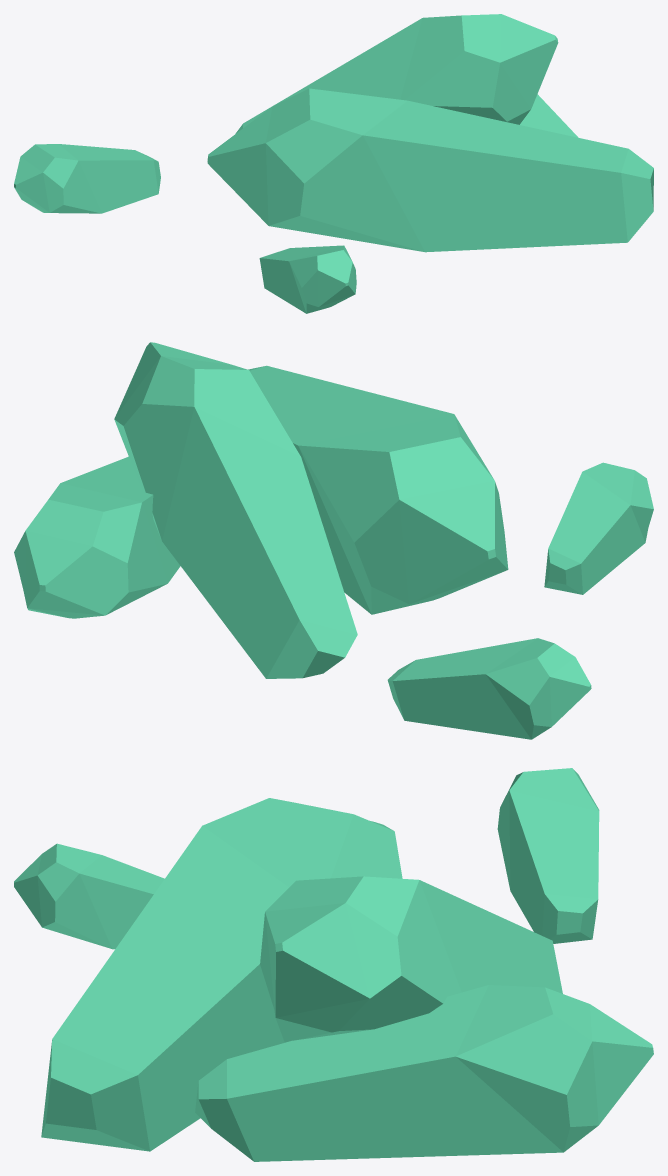
Rendered from Crystal_5_02.fbx.
The picture shows the model from 3 angles, top to bottom: view 1: azimuth 30°, elevation 25°; view 2: azimuth 150°, elevation 25°; view 3: azimuth 270°, elevation 25°; orthographic projection. The views are drawn at different scales.
Parts seen in each view (by area): view 1: Crystal_5_02; view 2: Crystal_5_02; view 3: Crystal_5_02.
Boxes of the visible parts, left/top/right/bottom form: Crystal_5_02: left=14, top=14, right=653, bottom=313; Crystal_5_02: left=14, top=342, right=653, bottom=739; Crystal_5_02: left=14, top=768, right=653, bottom=1161.
Bounding box in the file's own units: 73.88 × 26.56 × 59.66.
